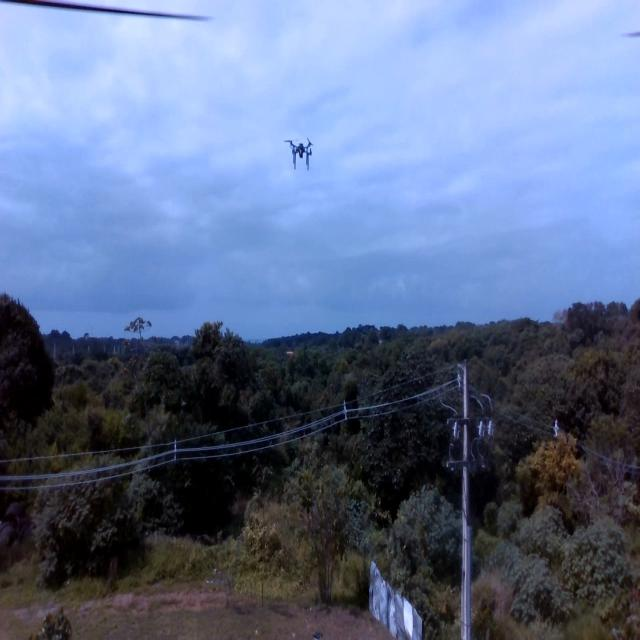-uav-: (279, 123, 326, 190)
